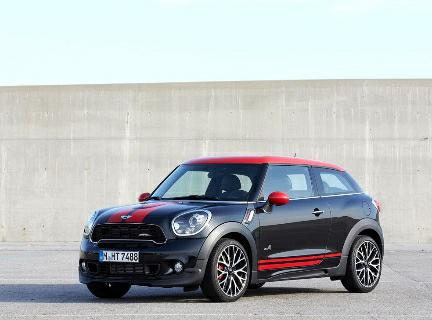MINI-JCWPACEMAN: (77, 150, 396, 307)
